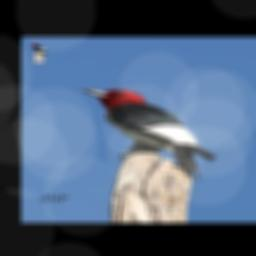Woodpecker: (76, 87, 221, 180)
